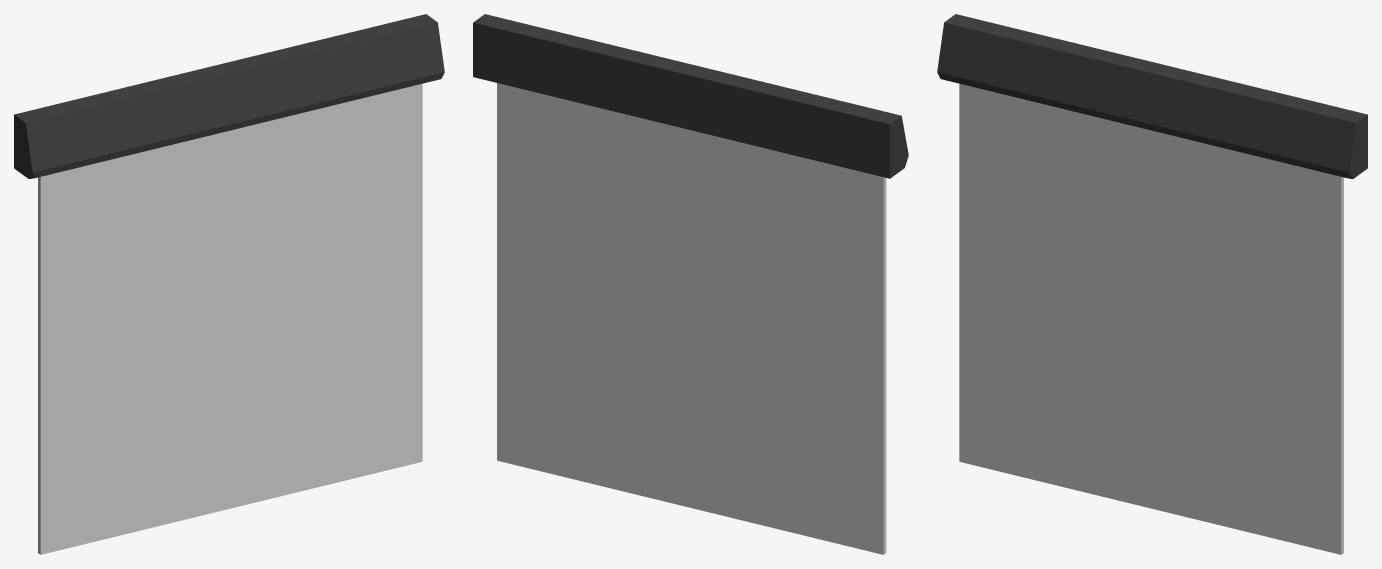
File: ProjectorScreenV1.fbx
3 views of the same model, side by side, from view 1: azimuth 30°, elevation 25°; view 2: azimuth 150°, elevation 25°; view 3: azimuth 330°, elevation 25° (orthographic).
Parts seen in each view (by area): view 1: ProjectorScreenV1_Cloth, ProjectorScreenV1; view 2: ProjectorScreenV1_Cloth, ProjectorScreenV1; view 3: ProjectorScreenV1_Cloth, ProjectorScreenV1.
Boxes of the visible parts, bbox=[...] form: ProjectorScreenV1_Cloth: bbox=[38, 83, 422, 554]; ProjectorScreenV1: bbox=[14, 14, 444, 178]; ProjectorScreenV1_Cloth: bbox=[497, 83, 886, 554]; ProjectorScreenV1: bbox=[473, 14, 908, 178]; ProjectorScreenV1_Cloth: bbox=[959, 83, 1343, 554]; ProjectorScreenV1: bbox=[937, 14, 1367, 178].
Bounding box in the file's own units: 160 × 162 × 12.5.
